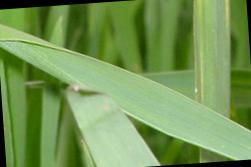Wheat: (47, 51, 248, 159), (76, 115, 162, 167)
